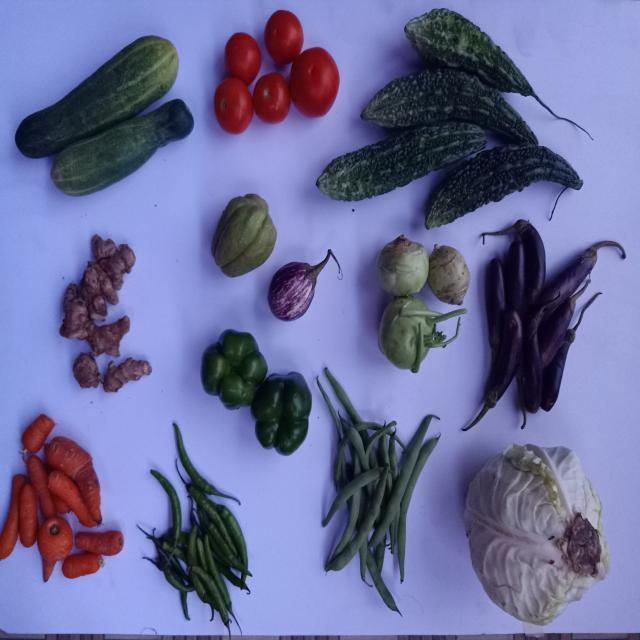Beans: (370, 415, 433, 548), (327, 464, 390, 571)
Bitter Gourd: (361, 67, 539, 144), (316, 121, 488, 200), (426, 143, 584, 228), (405, 7, 537, 95)
Cabbage: (465, 444, 612, 626)
Capsicum: (247, 368, 315, 461), (201, 329, 267, 409)
Carrot: (47, 471, 96, 528), (0, 475, 24, 560), (20, 414, 53, 453), (18, 484, 38, 548), (74, 531, 123, 556), (61, 553, 103, 579)
Chayote: (211, 193, 276, 276)
Cucumber: (14, 34, 178, 157), (50, 98, 193, 195)
Eggplant: (268, 249, 342, 321)
Ginger: (91, 234, 135, 290), (79, 261, 118, 320), (72, 353, 101, 388)
Green Chilly: (173, 424, 240, 505), (188, 486, 234, 552), (150, 470, 181, 547), (217, 505, 248, 569), (163, 565, 194, 601)
Tomato: (289, 46, 340, 116), (214, 76, 253, 133), (264, 9, 303, 63), (252, 71, 291, 122), (224, 31, 261, 83)
Turnip: (378, 295, 467, 372), (376, 234, 430, 296), (428, 244, 470, 305)
